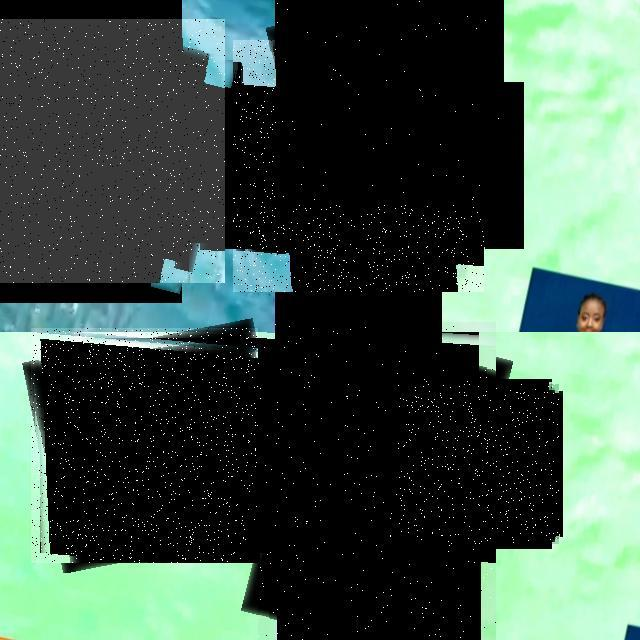3: (0, 19, 225, 283), (276, 0, 502, 205), (398, 384, 559, 544)
6: (31, 328, 284, 563)
drowning: (258, 322, 496, 640), (233, 40, 484, 292)
